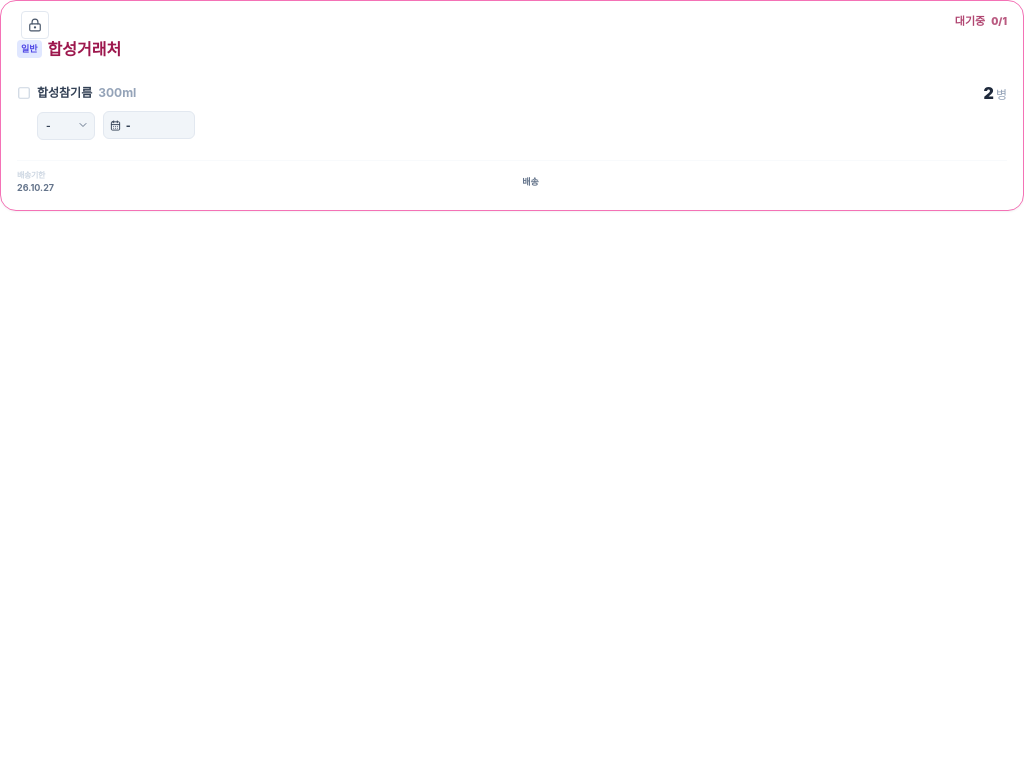
Scenario: processing 카드header에는 긴경고 없이 단일자물쇠→이유모달을 표시한다
What coordinates should you click on to do the following:
click the button named "잠금 이유 및 복구"
I would click on:
 (35, 25)
Its box is [21,11,49,39].
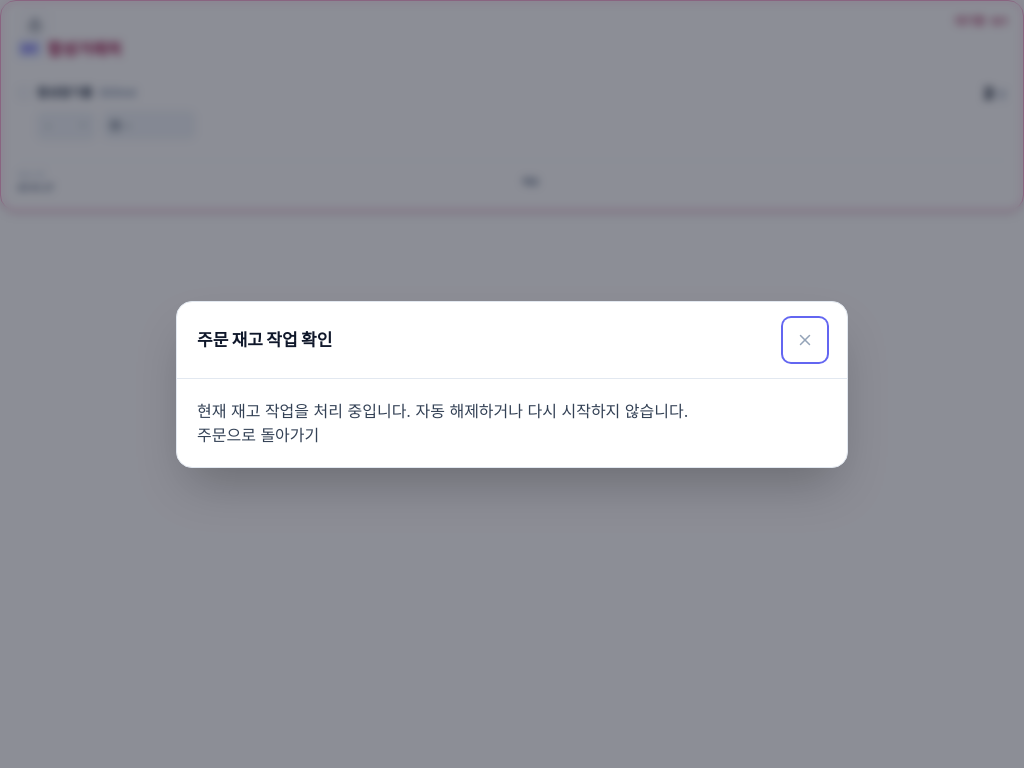
Expected: the dialog "주문 재고 작업 확인" shows "처리 중", [197,400,688,420]
